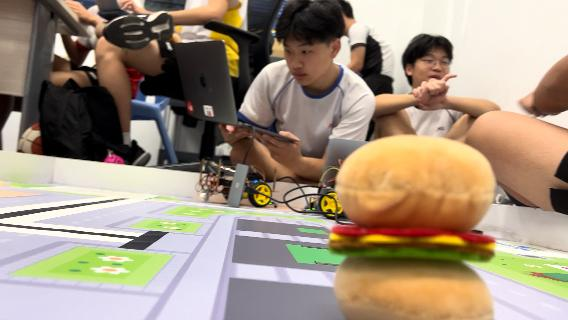burger: (326, 132, 500, 318)
